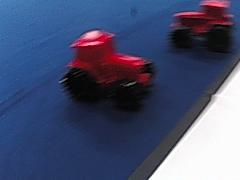Tracktor: (60, 27, 160, 105), (166, 0, 236, 50)
